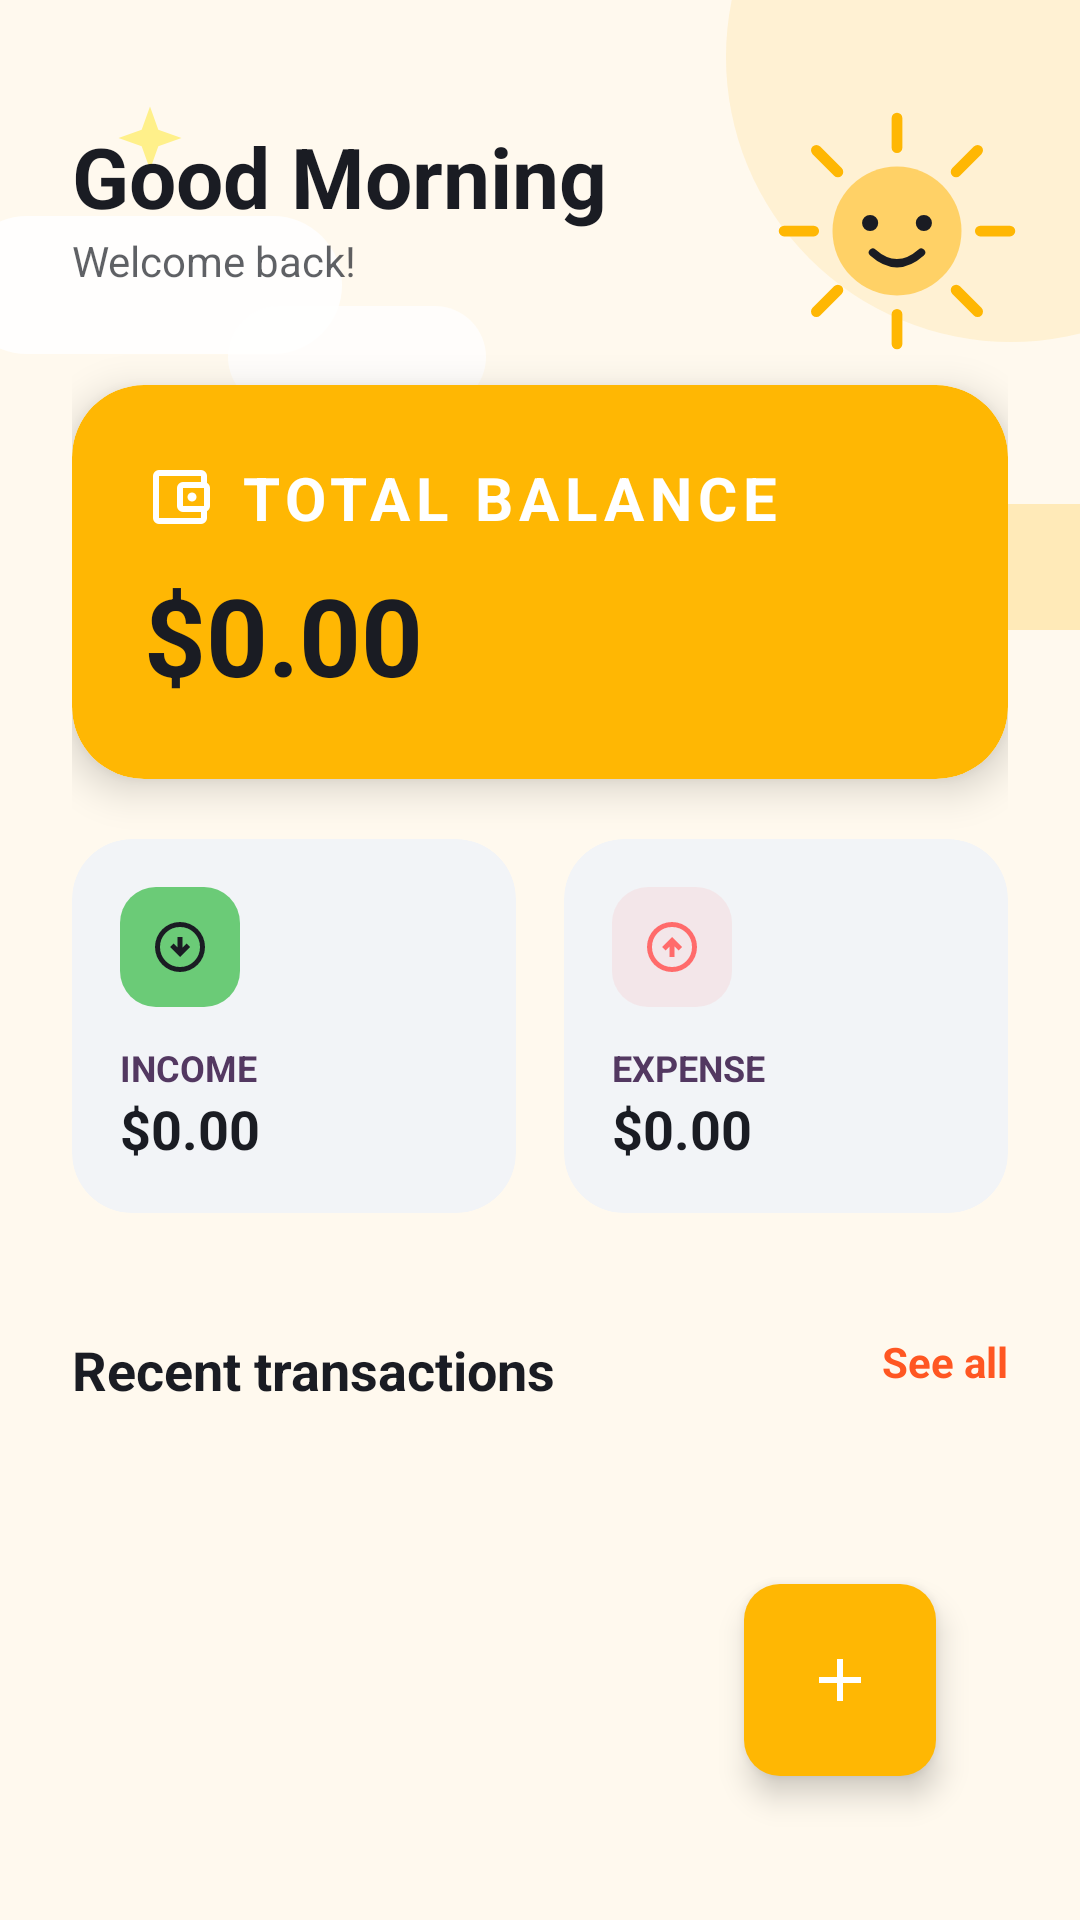

Icons on this 1080×1920 Android screen, each with its box as box(x1, y1, x2, y2):
add: box(744, 1584, 936, 1776)
arrow down: box(120, 887, 240, 1007)
arrow up: box(612, 887, 732, 1007)
